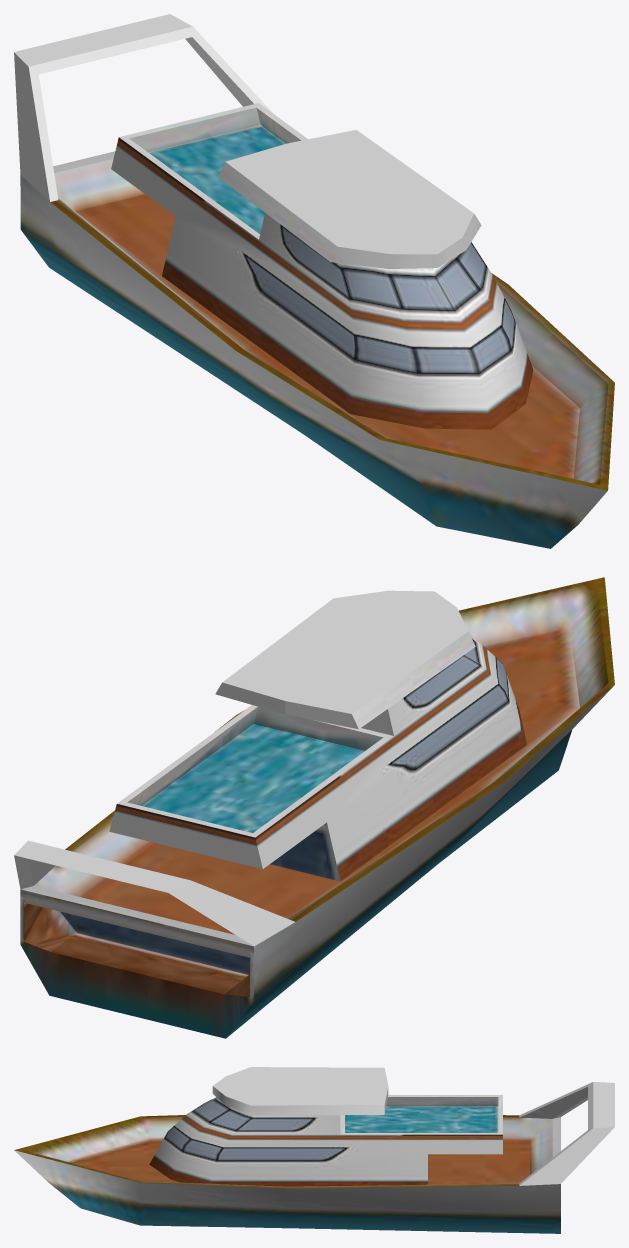
3 renders of one model, top to bottom at view 1: azimuth 30°, elevation 25°; view 2: azimuth 150°, elevation 25°; view 3: azimuth 270°, elevation 25°, orthographic. The views are drawn at different scales.
Parts seen in each view (by area): view 1: 633d2abd0d3b63a338157077; view 2: 633d2abd0d3b63a338157077; view 3: 633d2abd0d3b63a338157077.
Boxes of the visible parts, x1,y1,x2,y2 form: 633d2abd0d3b63a338157077: (14,14,614,548); 633d2abd0d3b63a338157077: (14,577,614,1038); 633d2abd0d3b63a338157077: (14,1067,614,1233).
Size of the model in its own units: 8.4 by 6.22 by 27.63.
Materials: 1 (1 with a texture image).
